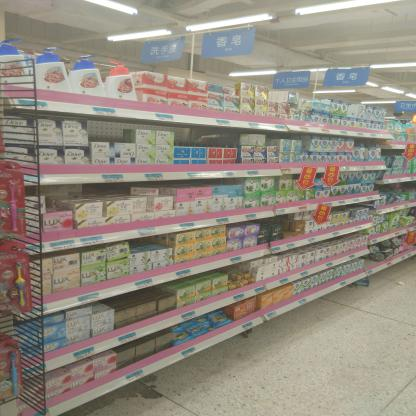Void: (174, 122, 236, 146), (46, 184, 124, 198), (88, 115, 128, 142), (129, 239, 171, 249), (112, 296, 167, 300), (230, 265, 246, 277), (270, 89, 286, 101), (268, 133, 278, 146), (285, 214, 292, 231)
